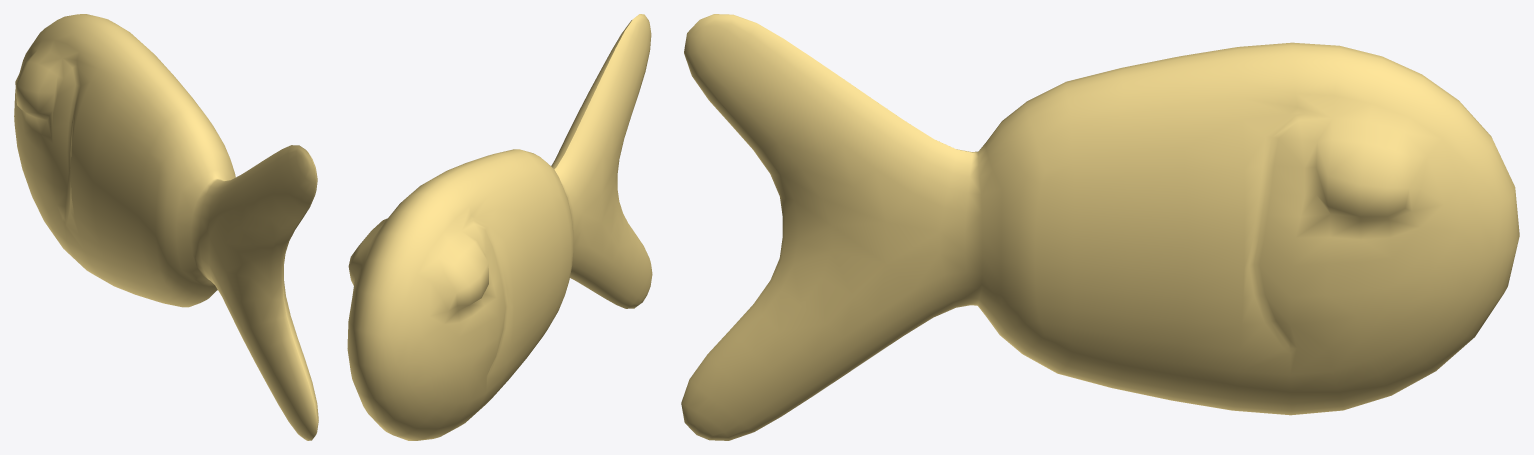
The model's file is FishTreat.fbx.
3 views of the same model, side by side, from view 1: azimuth 30°, elevation 25°; view 2: azimuth 150°, elevation 25°; view 3: azimuth 270°, elevation 25° (orthographic). The views are drawn at different scales.
Visible parts, largest first — view 1: Fishtreat; view 2: Fishtreat; view 3: Fishtreat.
Part boxes in pixels (x1,y1,x2,y2): Fishtreat: (14,14,318,440); Fishtreat: (347,14,652,440); Fishtreat: (681,14,1519,440).
Bounding box in the file's own units: 1.09 × 2.44 × 4.34.
